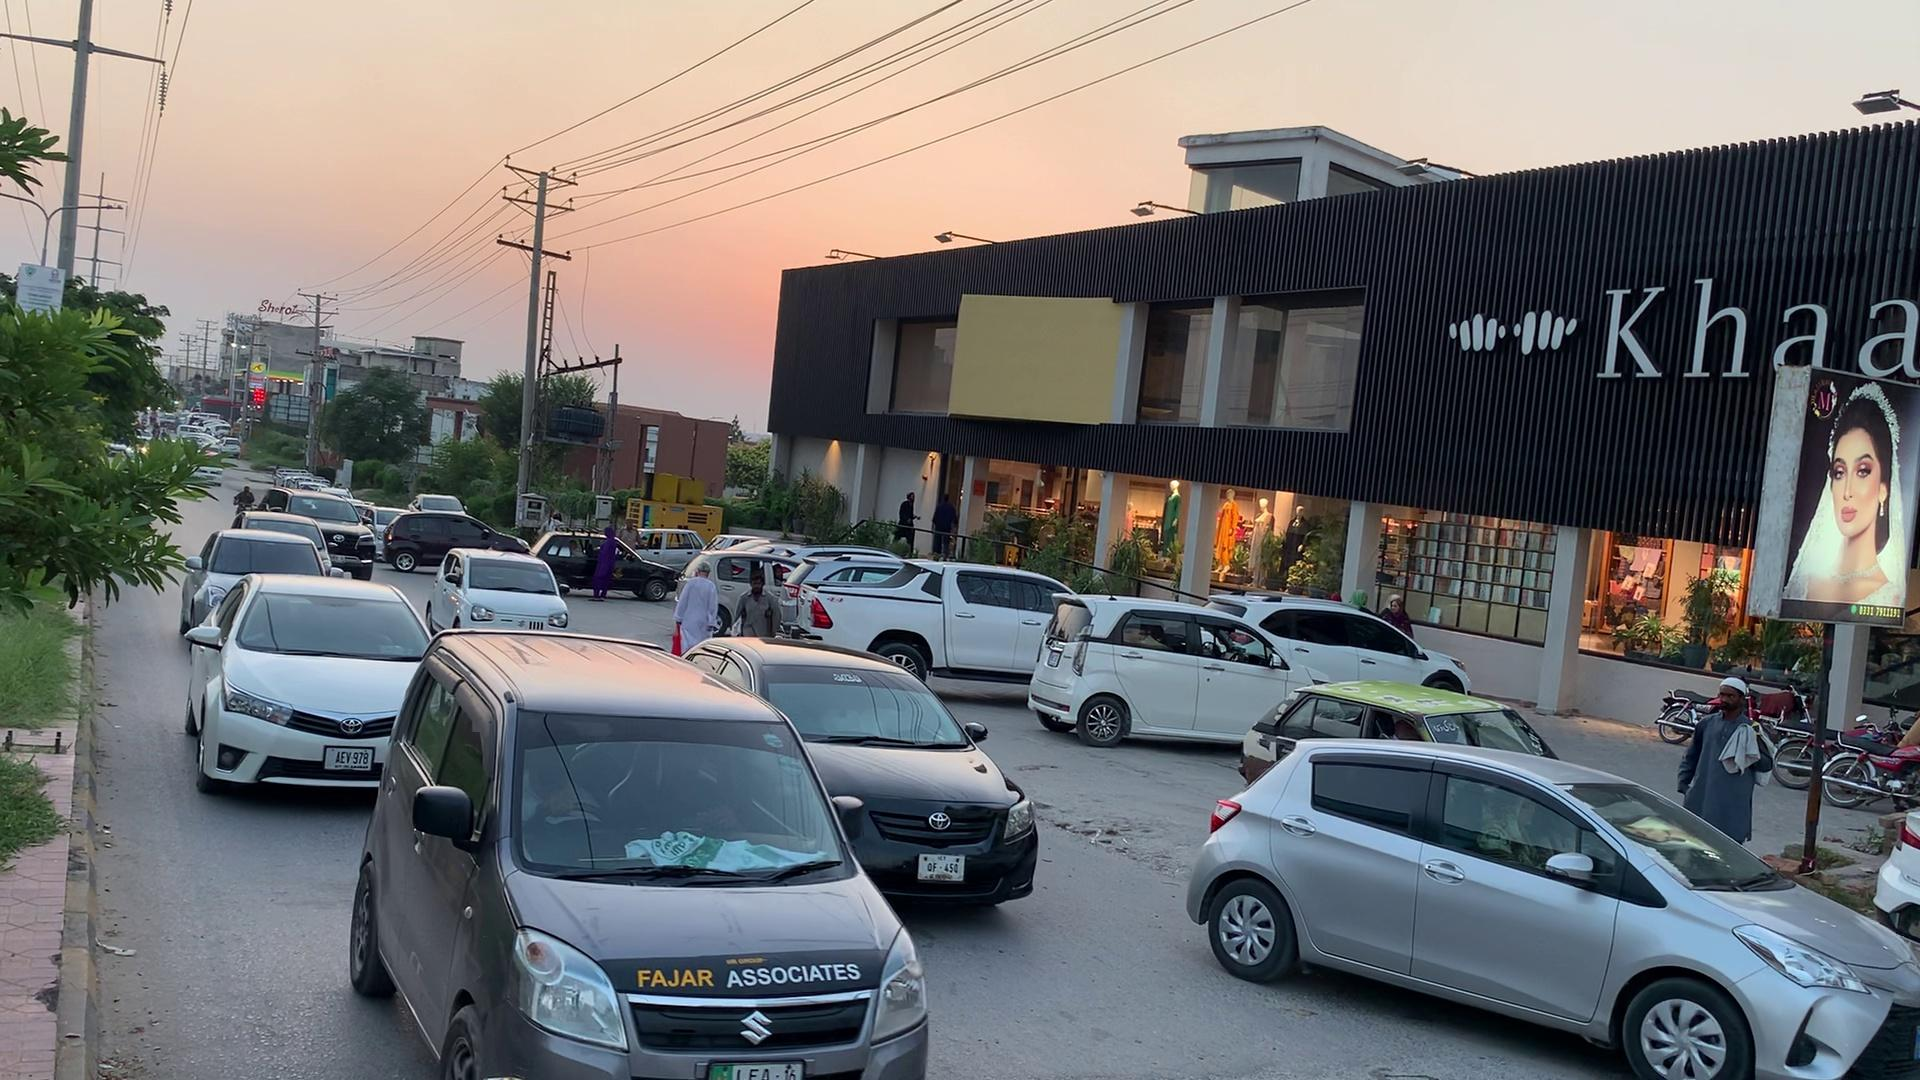windshield: (484, 700, 868, 890)
